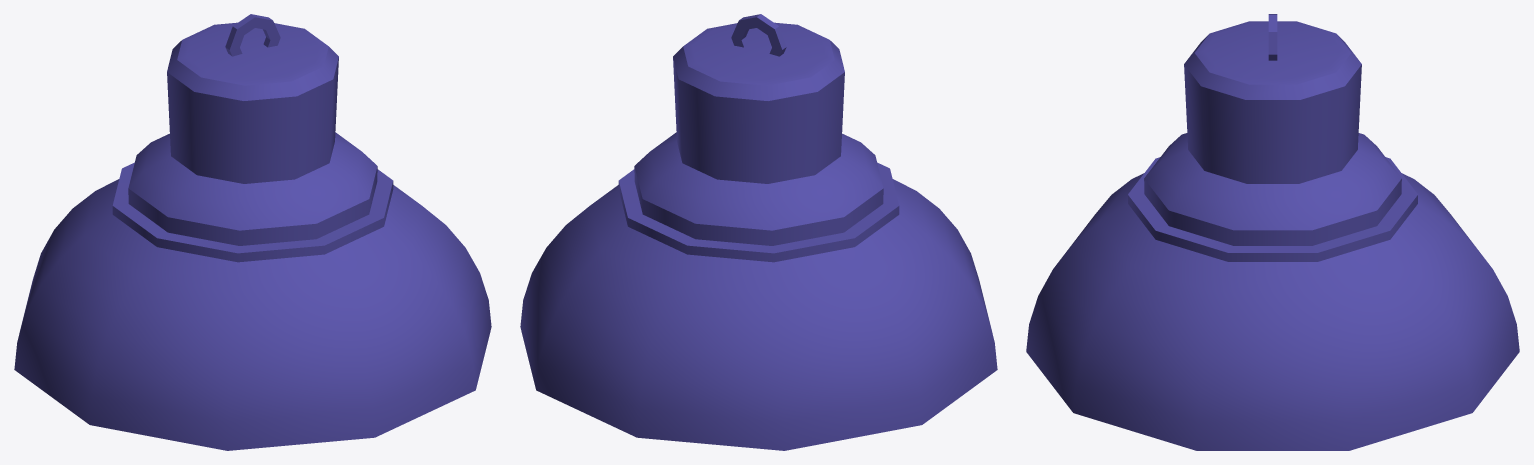
File: light2.fbx
3 views of the same model, side by side, from view 1: azimuth 30°, elevation 25°; view 2: azimuth 150°, elevation 25°; view 3: azimuth 270°, elevation 25° (orthographic).
Parts seen in each view (by area): view 1: luminaire; view 2: luminaire; view 3: luminaire.
Boxes of the visible parts, box(x1,y1,x2,y2) form: luminaire: box(14, 14, 491, 450); luminaire: box(520, 14, 997, 450); luminaire: box(1026, 14, 1519, 450).
Size of the model in its own units: 123 by 121 by 130.
